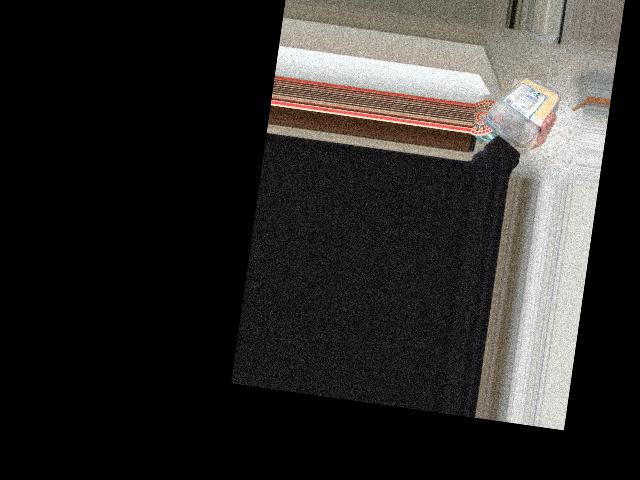cheese: (479, 65, 555, 148)
